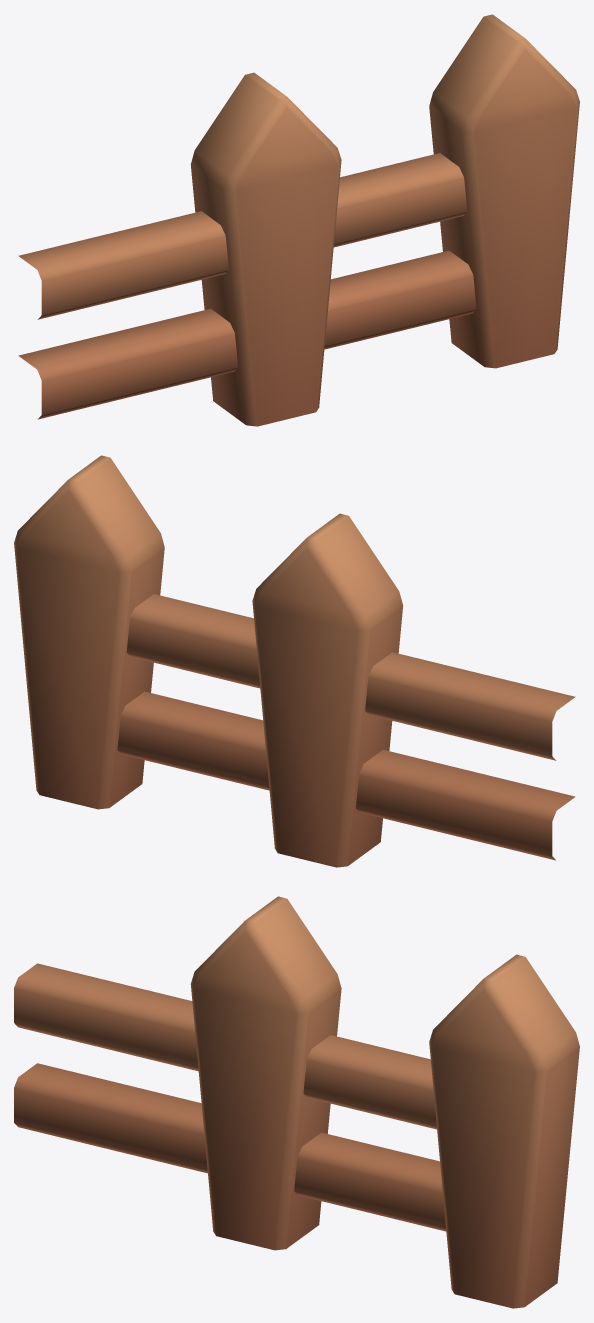
File: Fence Open Long.glb
3 renders of one model, top to bottom at view 1: azimuth 30°, elevation 25°; view 2: azimuth 150°, elevation 25°; view 3: azimuth 330°, elevation 25°, orthographic.
Parts seen in each view (by area): view 1: fence_open_long; view 2: fence_open_long; view 3: fence_open_long.
Boxes of the visible parts, x1,y1,x2,y2 form: fence_open_long: (18,14,579,426); fence_open_long: (14,455,575,867); fence_open_long: (14,896,579,1308).
Size of the model in its own units: 2.25 by 1.28 by 0.3.
Materials: 1 (1 with a texture image).
